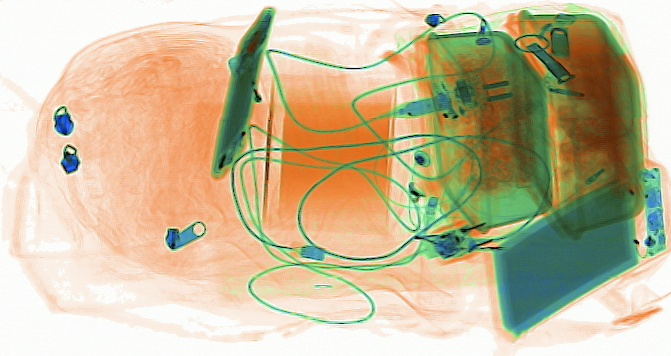lighter: (222, 50, 282, 148)
